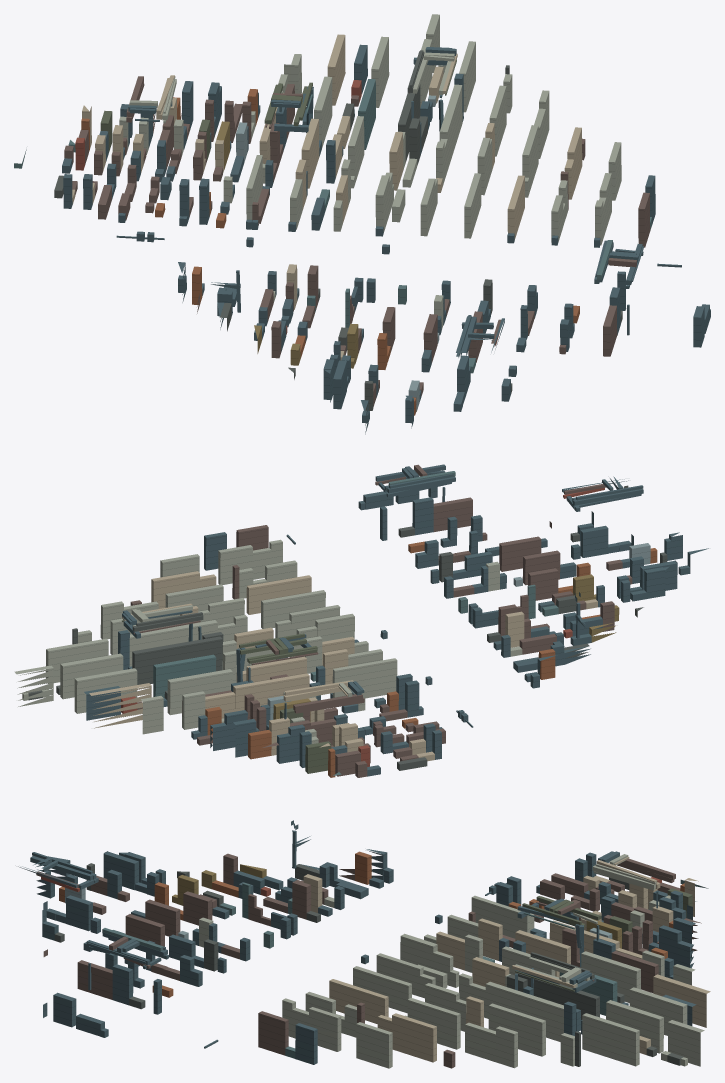
File: terminal-4---134_-17.glb
3 views of the same model, one above another, from view 1: azimuth 30°, elevation 25°; view 2: azimuth 150°, elevation 25°; view 3: azimuth 270°, elevation 25° (orthographic). The views are drawn at different scales.
Visible parts, largest first — view 1: measured-industrial; view 2: measured-industrial; view 3: measured-industrial.
Part boxes in pixels (box(x1,y1,x2,y2)): measured-industrial: box(14, 14, 710, 434); measured-industrial: box(14, 464, 708, 777); measured-industrial: box(18, 820, 710, 1068).
Size of the model in its own units: 180 by 27.47 by 269.
